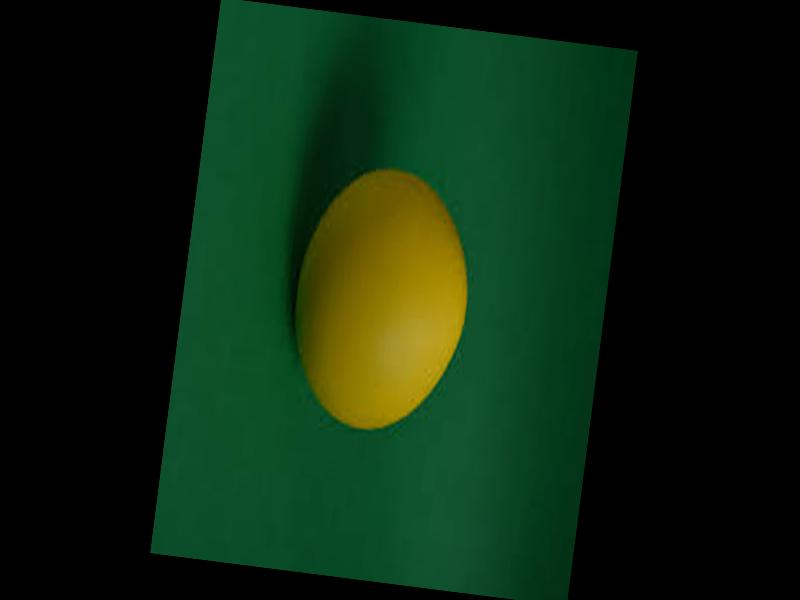Eggs: (279, 166, 482, 443)
